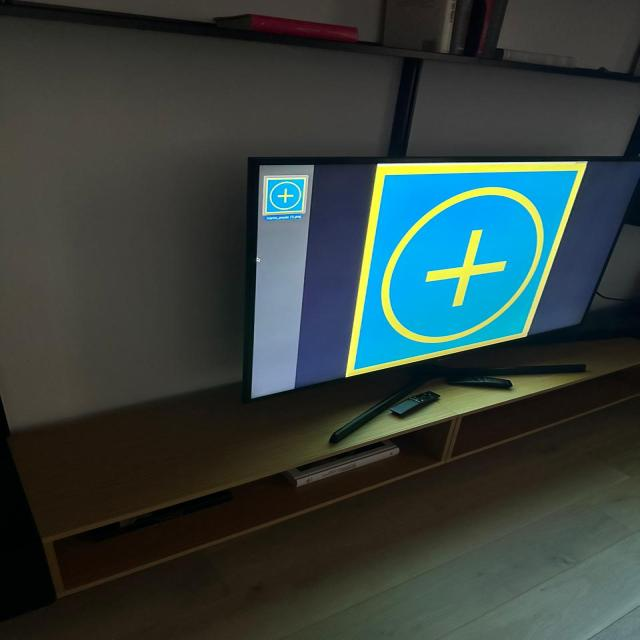Marker: (346, 162, 587, 376), (267, 178, 304, 212)
